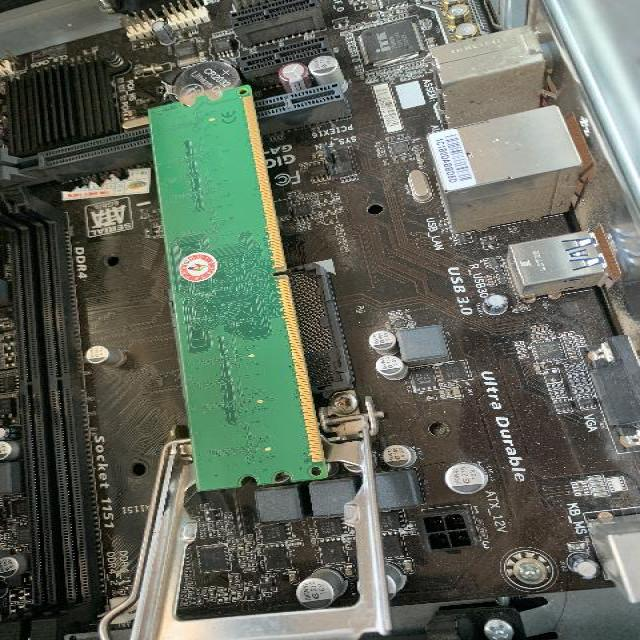Mainboard: (4, 2, 640, 640)
RAM: (147, 84, 334, 492)
